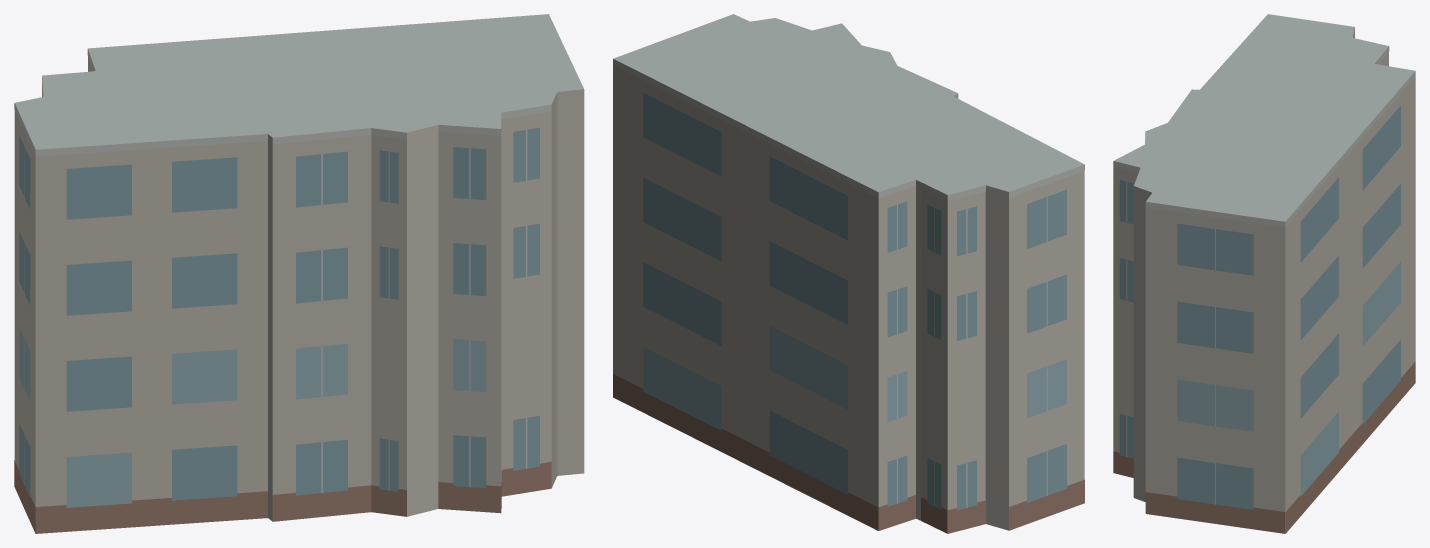
File: survey-upis-32823266.glb
The picture shows the model from 3 angles, left to right: view 1: azimuth 30°, elevation 25°; view 2: azimuth 150°, elevation 25°; view 3: azimuth 270°, elevation 25°; orthographic projection. The views are drawn at different scales.
Parts seen in each view (by area): view 1: survey-upis-32823266.tmp; view 2: survey-upis-32823266.tmp; view 3: survey-upis-32823266.tmp.
Boxes of the visible parts, left/top/right/bottom form: survey-upis-32823266.tmp: left=14, top=14, right=584, bottom=533; survey-upis-32823266.tmp: left=613, top=14, right=1084, bottom=533; survey-upis-32823266.tmp: left=1113, top=14, right=1415, bottom=533.
Bounding box in the file's own units: 19.36 × 13.55 × 11.9.
